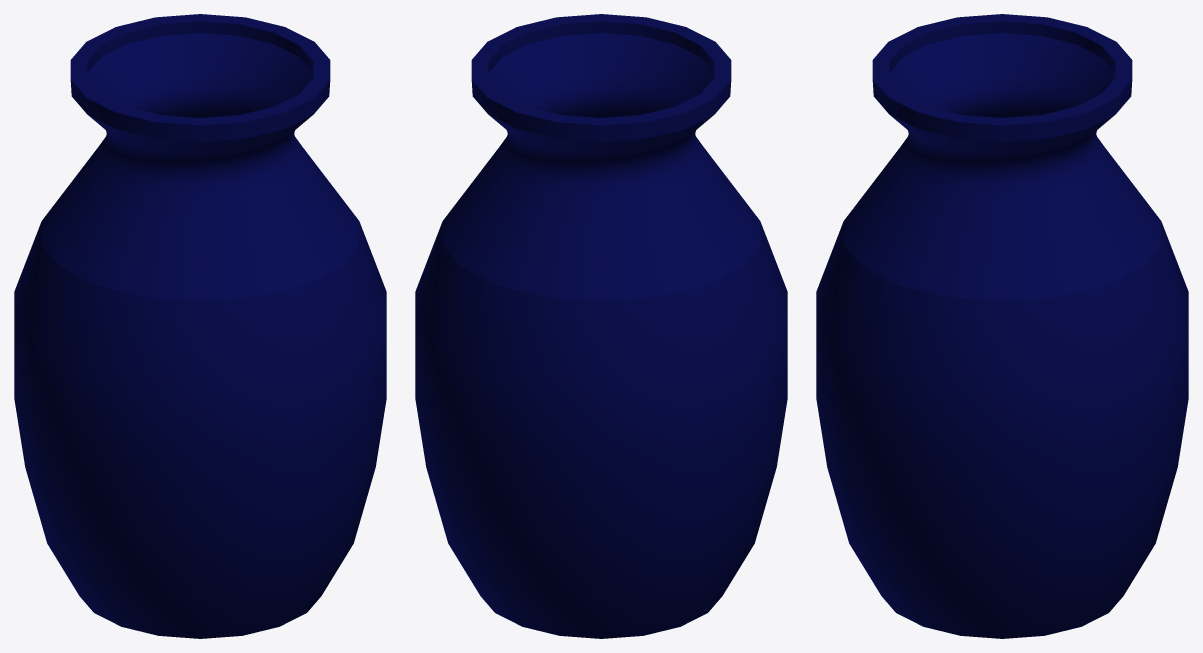
File: Vase 2.FBX
The picture shows the model from 3 angles, left to right: view 1: azimuth 30°, elevation 25°; view 2: azimuth 150°, elevation 25°; view 3: azimuth 270°, elevation 25°; orthographic projection.
Visible parts, largest first — view 1: Vase 2; view 2: Vase 2; view 3: Vase 2.
Boxes of the visible parts, bbox=[...] form: Vase 2: bbox=[14, 14, 386, 638]; Vase 2: bbox=[415, 14, 787, 638]; Vase 2: bbox=[816, 14, 1188, 638].
Bounding box in the file's own units: 11.3 × 17.05 × 11.13.
